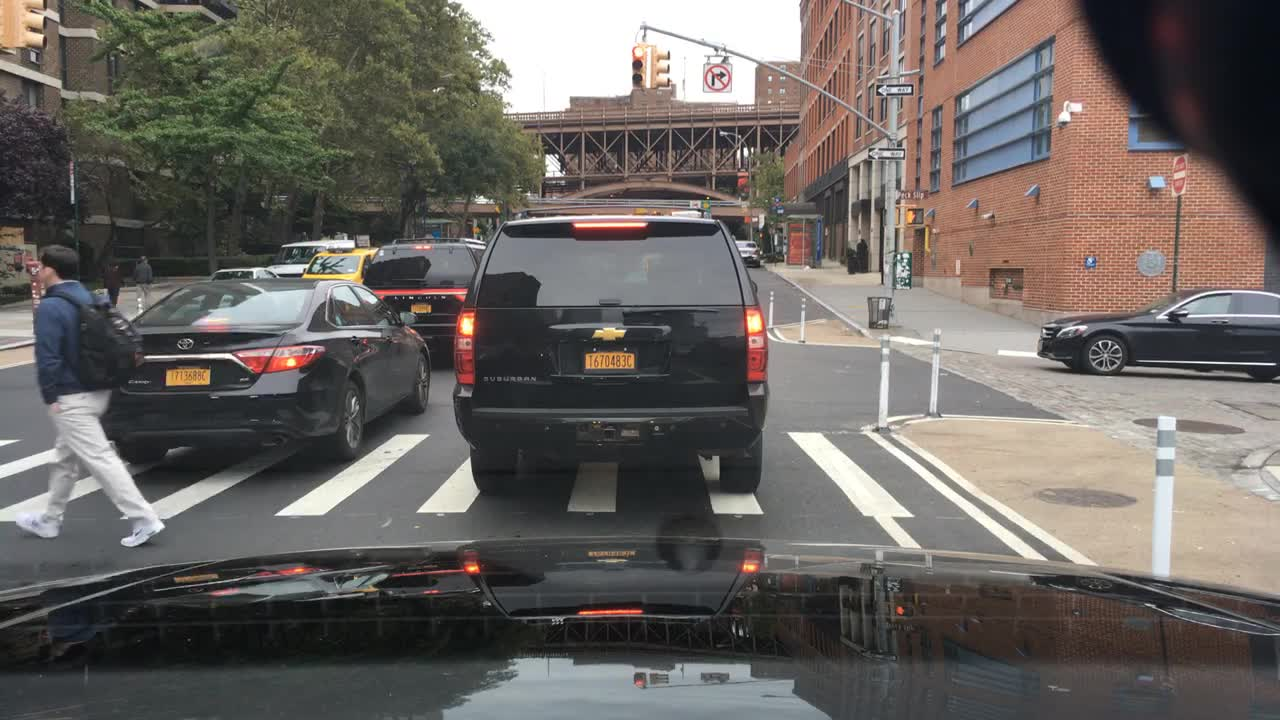car: (449, 198, 768, 495), (100, 280, 431, 466), (1033, 287, 1279, 382), (360, 240, 478, 367), (265, 240, 361, 280), (301, 243, 382, 284), (388, 235, 485, 267), (206, 264, 280, 282), (733, 240, 765, 269)
person: (12, 245, 166, 545), (98, 257, 125, 304), (132, 253, 152, 311), (856, 233, 869, 272)
traffic light: (14, 2, 47, 51), (652, 46, 672, 90), (630, 41, 645, 90), (901, 206, 925, 226), (891, 206, 903, 226)
traffic sign: (701, 62, 731, 94), (874, 81, 913, 98), (866, 145, 906, 159), (1171, 156, 1185, 194), (896, 190, 930, 200)
